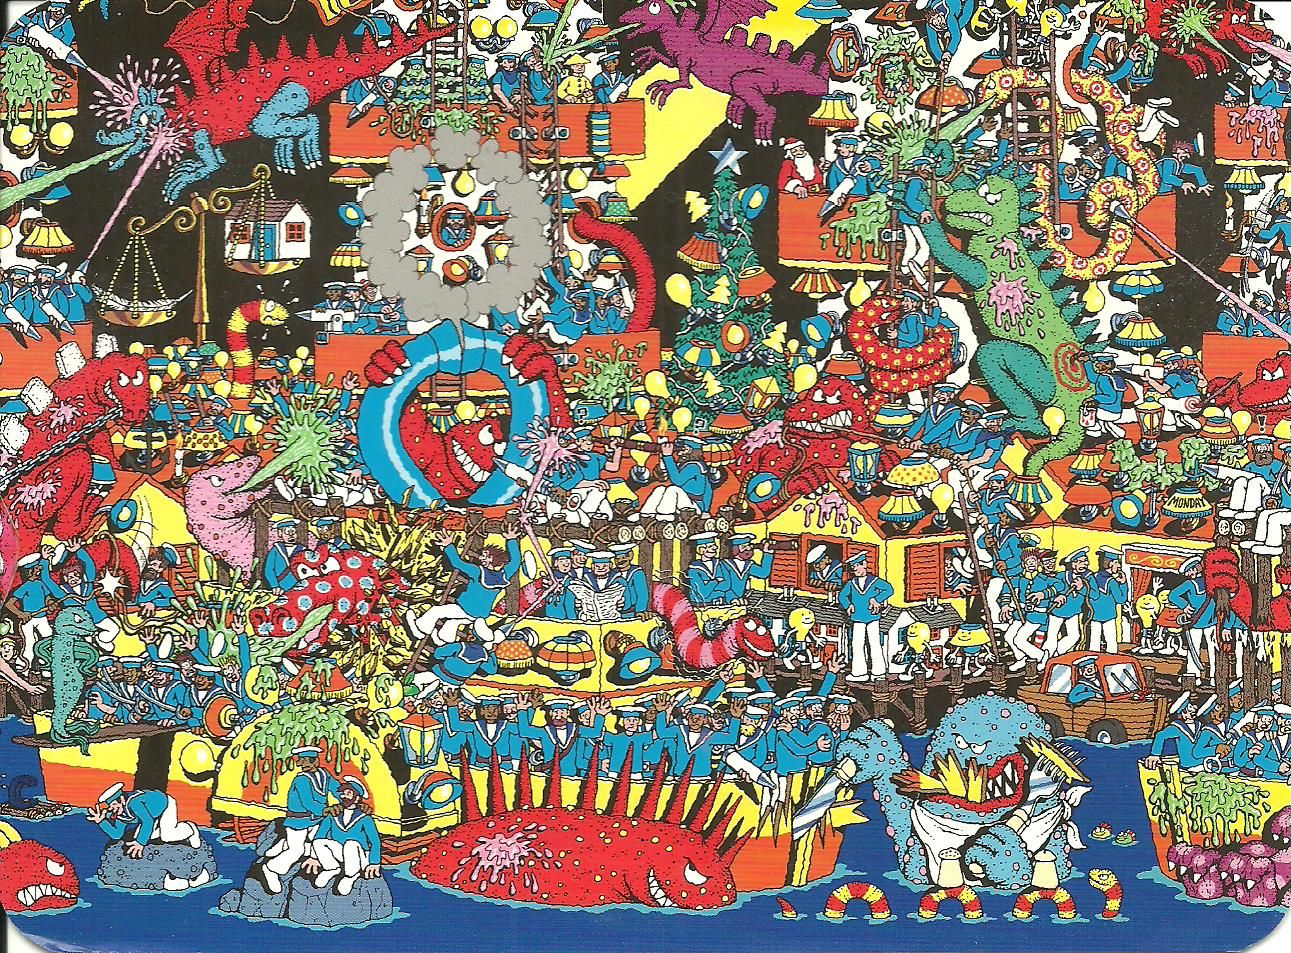Waldo: (360, 276, 380, 301)
